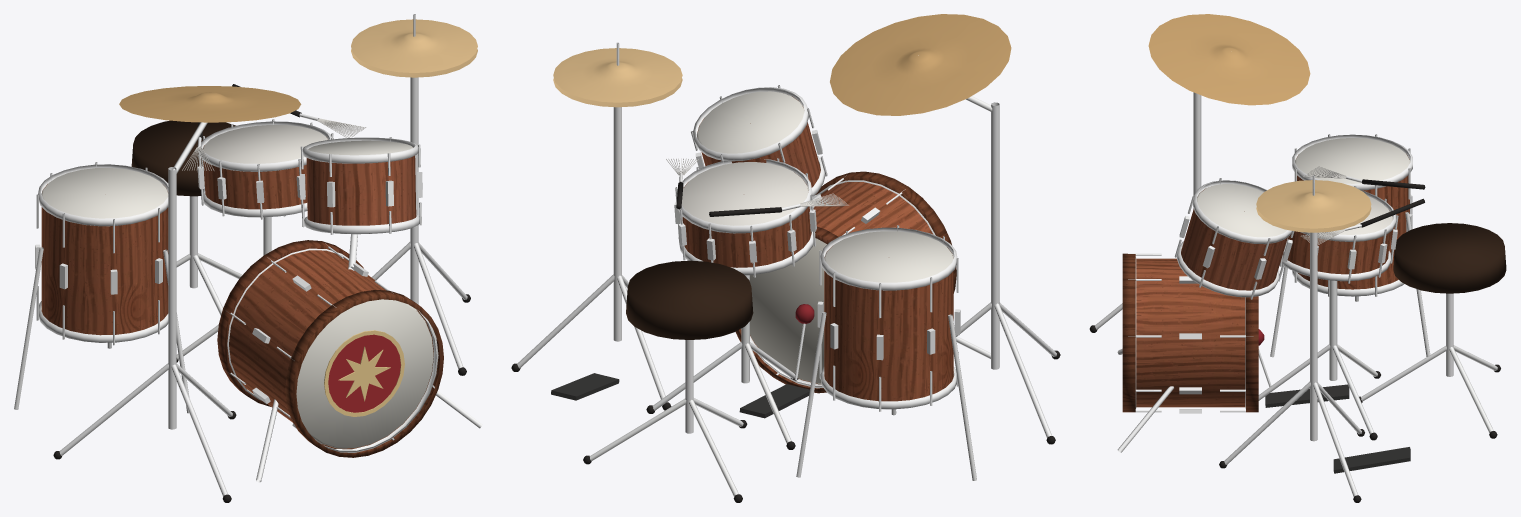
Rendered from instr_drums.glb.
3 renders of one model, left to right at view 1: azimuth 30°, elevation 25°; view 2: azimuth 150°, elevation 25°; view 3: azimuth 270°, elevation 25°, orthographic. The views are drawn at different scales.
Parts seen in each view (by area): view 1: drums_wood, drums_chrome, drums_drumhead, drums_bronze, drums_leather, drums_enamel, drums_gilt; view 2: drums_chrome, drums_wood, drums_drumhead, drums_bronze, drums_leather, drums_blackmetal; view 3: drums_wood, drums_chrome, drums_bronze, drums_drumhead, drums_leather, drums_blackmetal.
Boxes of the visible parts, x1=… form: drums_wood: x1=41, y1=137, x2=443, y2=457; drums_chrome: x1=14, y1=14, x2=482, y2=496; drums_drumhead: x1=41, y1=125, x2=433, y2=448; drums_bronze: x1=119, y1=19, x2=477, y2=122; drums_leather: x1=131, y1=120, x2=235, y2=196; drums_enamel: x1=328, y1=334, x2=400, y2=412; drums_gilt: x1=324, y1=330, x2=404, y2=416; drums_chrome: x1=517, y1=42, x2=1056, y2=496; drums_wood: x1=682, y1=96, x2=956, y2=401; drums_drumhead: x1=681, y1=91, x2=953, y2=383; drums_bronze: x1=553, y1=14, x2=1011, y2=115; drums_leather: x1=626, y1=260, x2=753, y2=339; drums_blackmetal: x1=551, y1=373, x2=809, y2=418; drums_wood: x1=1122, y1=154, x2=1409, y2=412; drums_chrome: x1=1095, y1=92, x2=1497, y2=497; drums_bronze: x1=1148, y1=14, x2=1371, y2=232; drums_drumhead: x1=1181, y1=138, x2=1410, y2=277; drums_leather: x1=1393, y1=223, x2=1506, y2=293; drums_blackmetal: x1=1265, y1=384, x2=1410, y2=473.
Size of the model in its own units: 1.53 by 1.09 by 1.29.
Materials: 11 (1 with a texture image).
